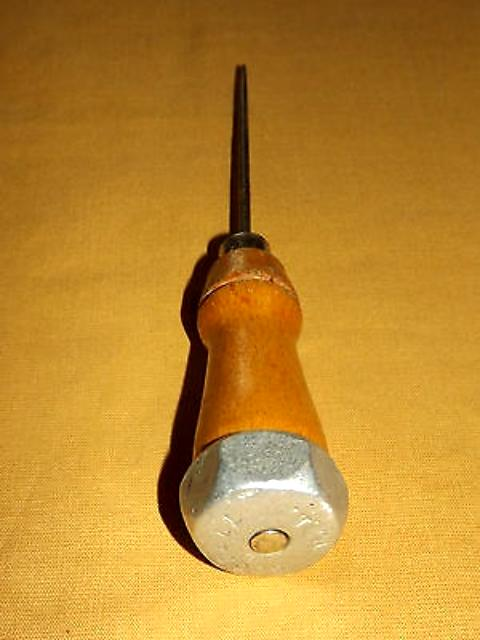ice pick: (179, 62, 349, 574)
